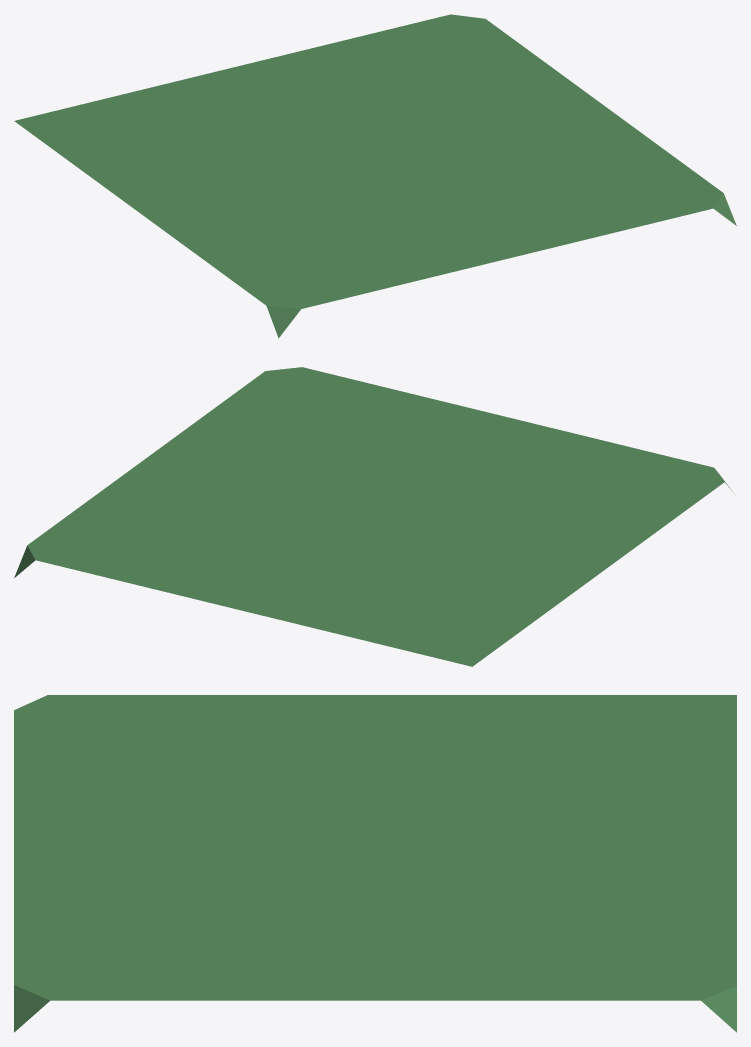
File: Grass_Interior_Corner_3.fbx
3 renders of one model, top to bottom at view 1: azimuth 30°, elevation 25°; view 2: azimuth 150°, elevation 25°; view 3: azimuth 270°, elevation 25°, orthographic. The views are drawn at different scales.
Visible parts, largest first — view 1: Grass_3_Interior_Corner; view 2: Grass_3_Interior_Corner; view 3: Grass_3_Interior_Corner.
Boxes of the visible parts, x1,y1,x2,y2 form: Grass_3_Interior_Corner: (14,14,736,338); Grass_3_Interior_Corner: (14,367,732,666); Grass_3_Interior_Corner: (14,695,736,1032).
Bounding box in the file's own units: 100 × 4.99 × 100.
